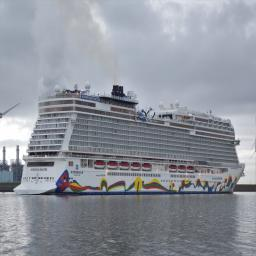cruises: (13, 85, 247, 201)
